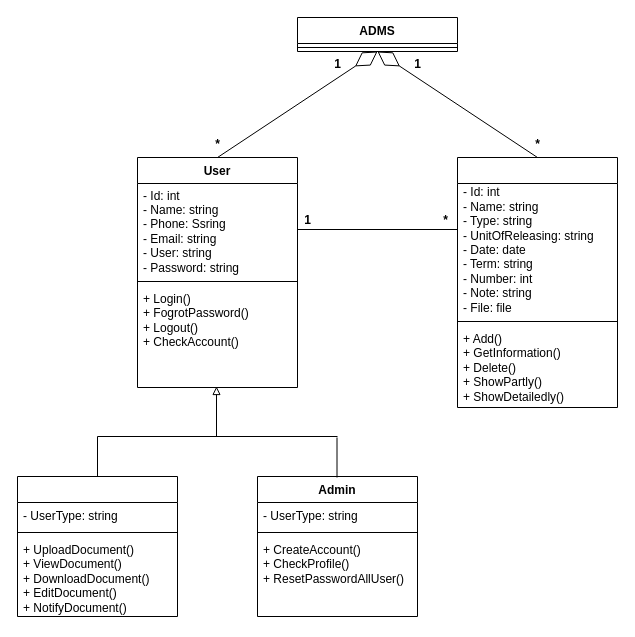
The diagram is 635 pixels wide and 637 high, and some of its shapes have lost their labels. Each missing label, with the box of its shape:
Document: (456, 156, 618, 408)
Editor: (16, 476, 178, 616)
